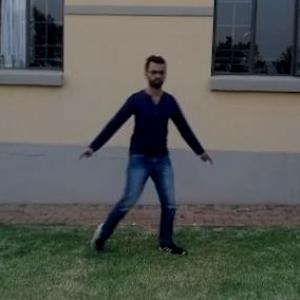land: (84, 62, 212, 241)
